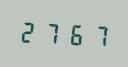seven: (40, 18, 61, 46), (84, 21, 105, 49)
six: (62, 19, 83, 48)
two: (18, 17, 39, 45)
